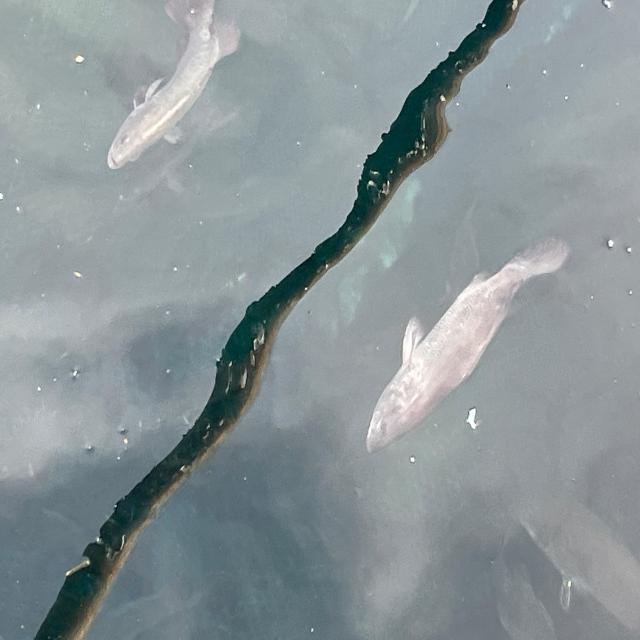ikan: (340, 240, 584, 448), (86, 14, 242, 180)
